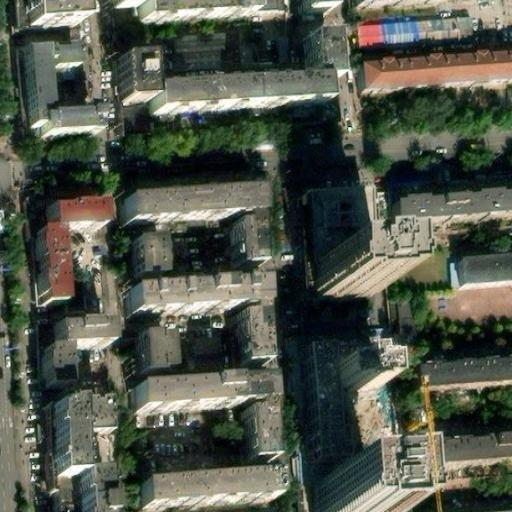building: (148, 76, 319, 116), (360, 47, 512, 86), (124, 192, 259, 233), (131, 286, 268, 322), (144, 478, 279, 512), (139, 381, 270, 415), (356, 15, 480, 46), (395, 211, 512, 238), (412, 363, 512, 393), (169, 30, 237, 73), (416, 438, 512, 468), (309, 273, 372, 315), (47, 405, 78, 481), (309, 480, 378, 512), (16, 43, 39, 134), (445, 258, 512, 288), (114, 54, 147, 114), (38, 112, 94, 147), (236, 314, 271, 364), (303, 28, 338, 76), (239, 408, 273, 456), (35, 237, 59, 305), (45, 212, 105, 238), (330, 374, 382, 403), (43, 320, 105, 344), (227, 222, 263, 263), (133, 230, 165, 273), (140, 331, 170, 372), (183, 333, 223, 361), (15, 0, 70, 18), (35, 342, 58, 380), (74, 404, 99, 420)
